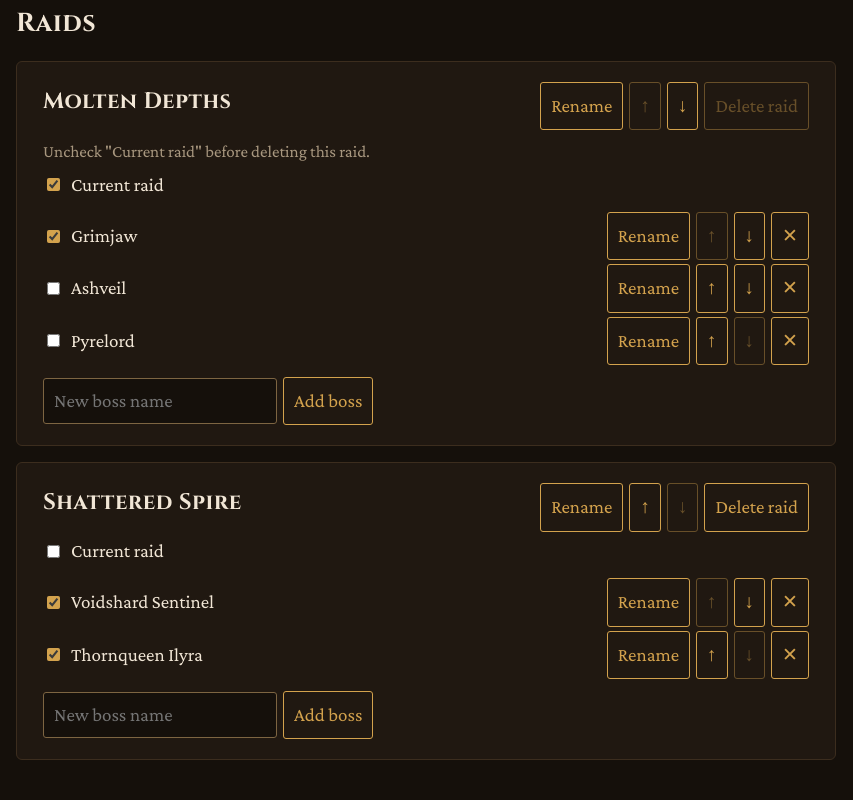
it: OfficerRaidProgress › should not send a rename request when an officer cancels renaming a tier
(page scrolled)
Click the button with aria-label "Rename Shattered Spire".
click(582, 508)  # box [540,484,623,532]
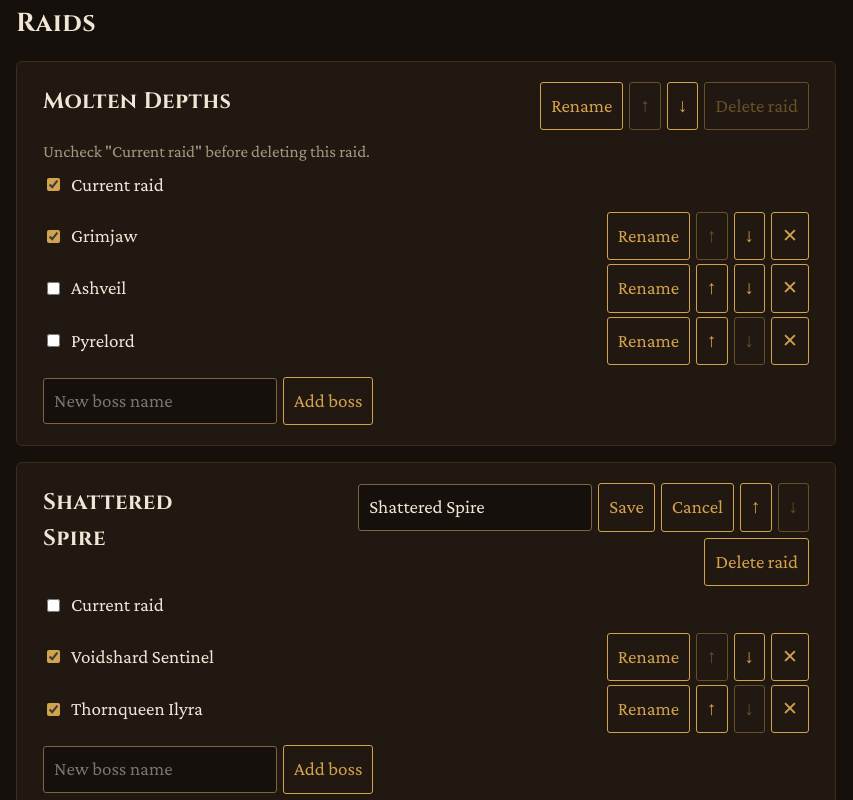
Type " Two" into the field named "New name for Shattered Spire".
click(475, 508); type(" Two")  # box [358,484,592,531]
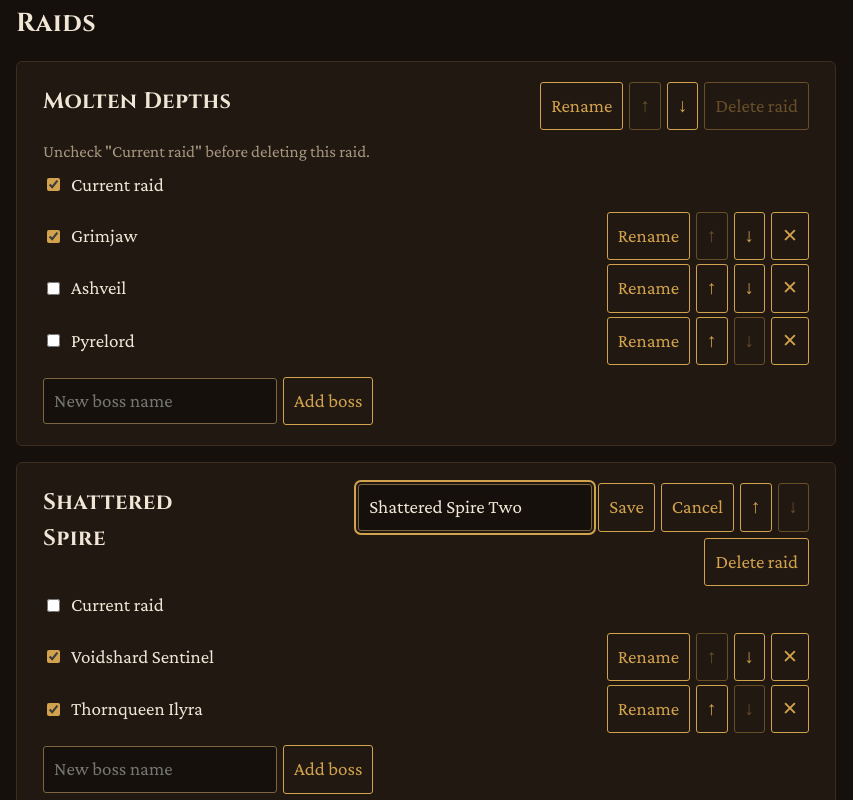
Click the button with aria-label "Cancel renaming Shattered Spire".
click(697, 508)  # box [661,484,734,532]
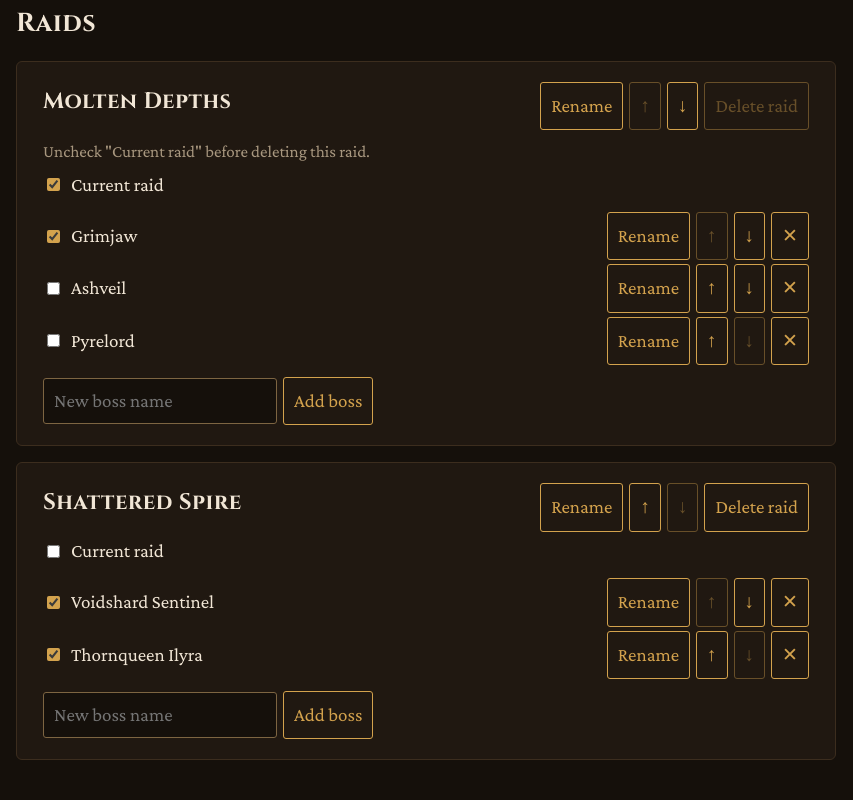
expect the button with aria-label "Rename Shattered Spire" is shown: met, box [540,484,623,532]
